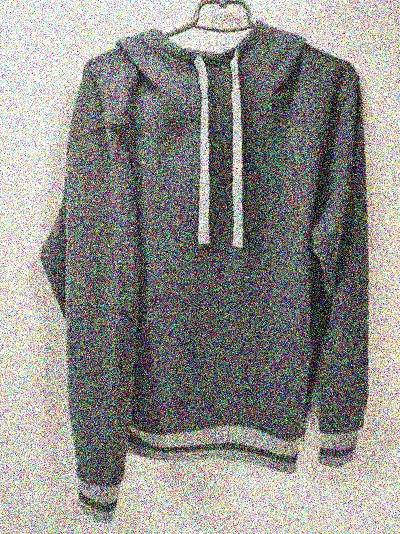Hoodie: (41, 12, 378, 515)
